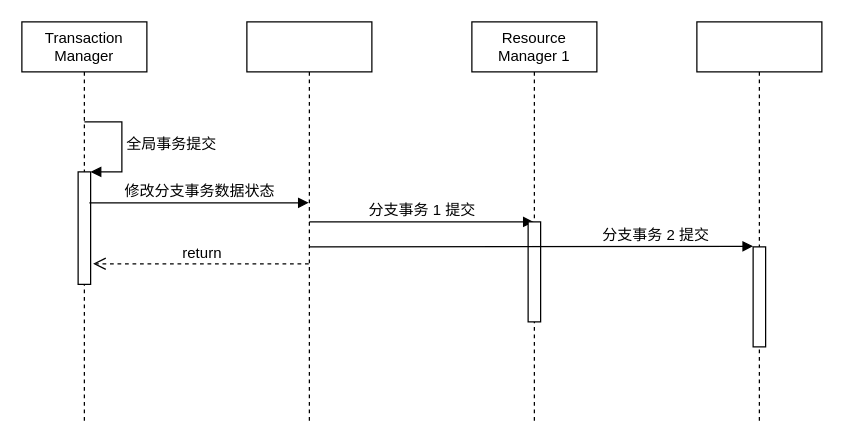
Image size: 844x444. Some labels were removed from this diagram. Here are the shapes that lost their labels. From the top down, the box of each, then its label:
(246, 21, 372, 422): ETCD
(696, 21, 822, 422): Resource Manager 2
